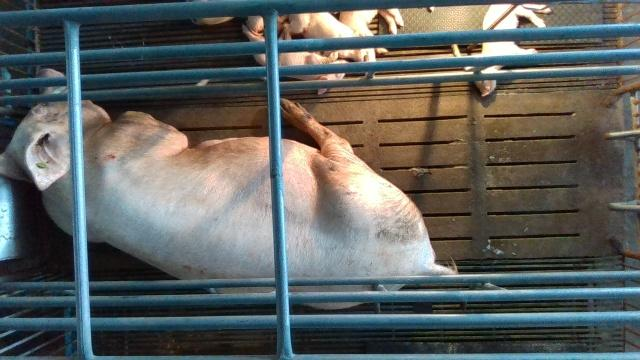piglet: (463, 3, 551, 96), (242, 23, 349, 94), (284, 12, 376, 62), (341, 9, 404, 54)
sow-sleep: (1, 67, 459, 308)
